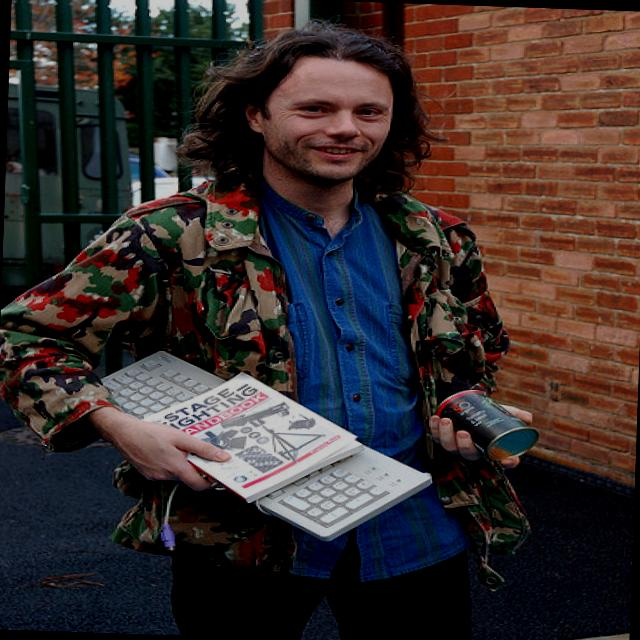Vehicle: (2, 82, 123, 259)
